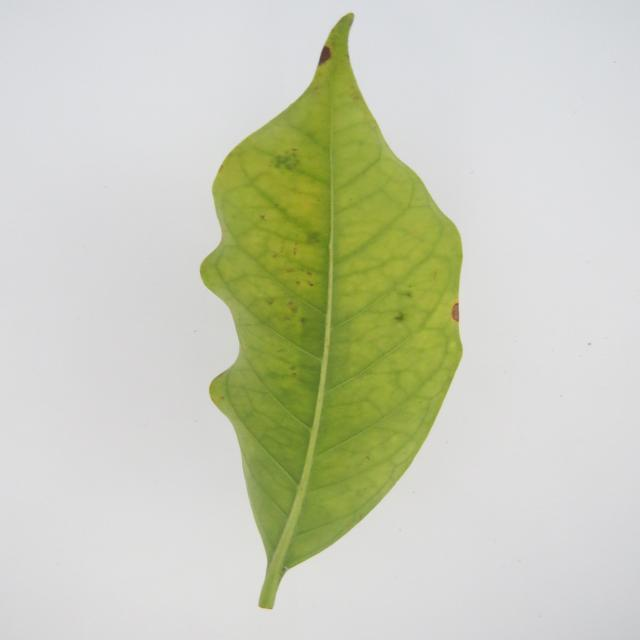DeficienciaNutricional-Calcio: (202, 15, 462, 609)
